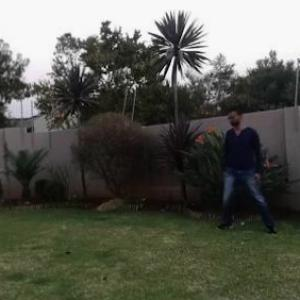follow: (221, 97, 261, 235)
